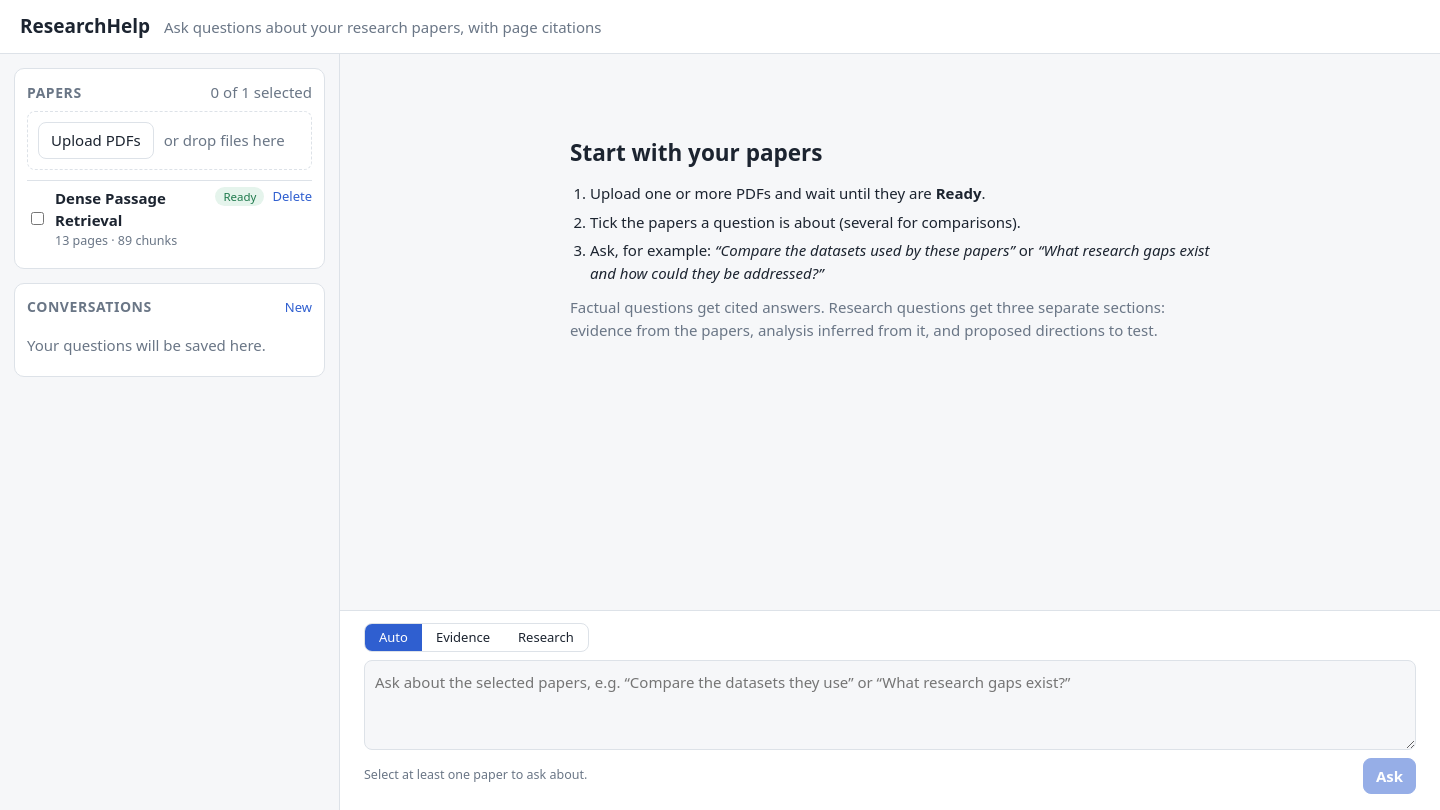
Test: App › shows the server's error and keeps the question for a retry
Expected: the text "Dense Passage Retrieval" is shown, [55, 188, 166, 230]
Click the checkbox named "Select Dense": (38, 218) [31, 190, 44, 247]
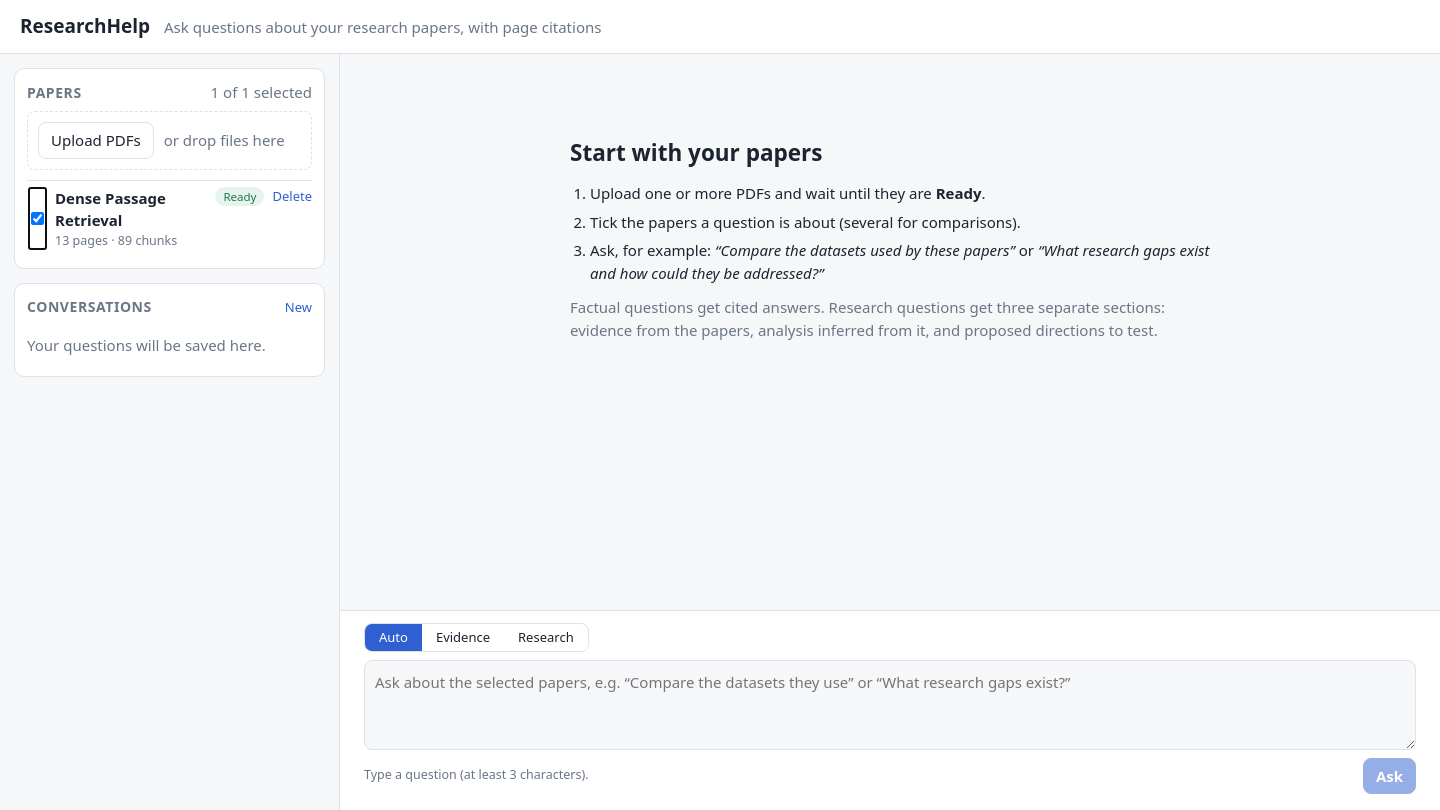
In the text box named "Your question": (890, 705) [364, 660, 1416, 750], type "Which datasets?"
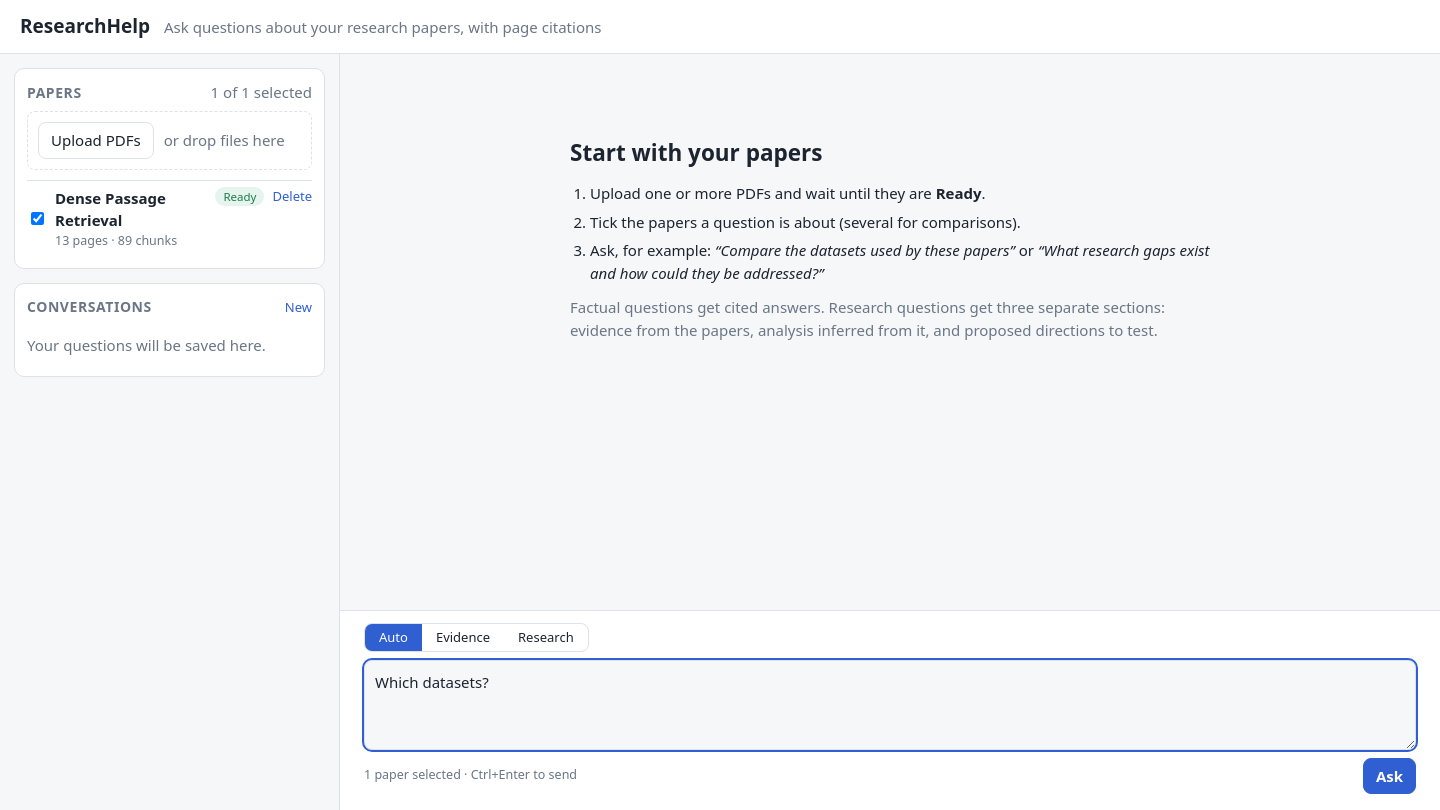
Click the button "Ask": (1389, 776) [1363, 758, 1416, 794]
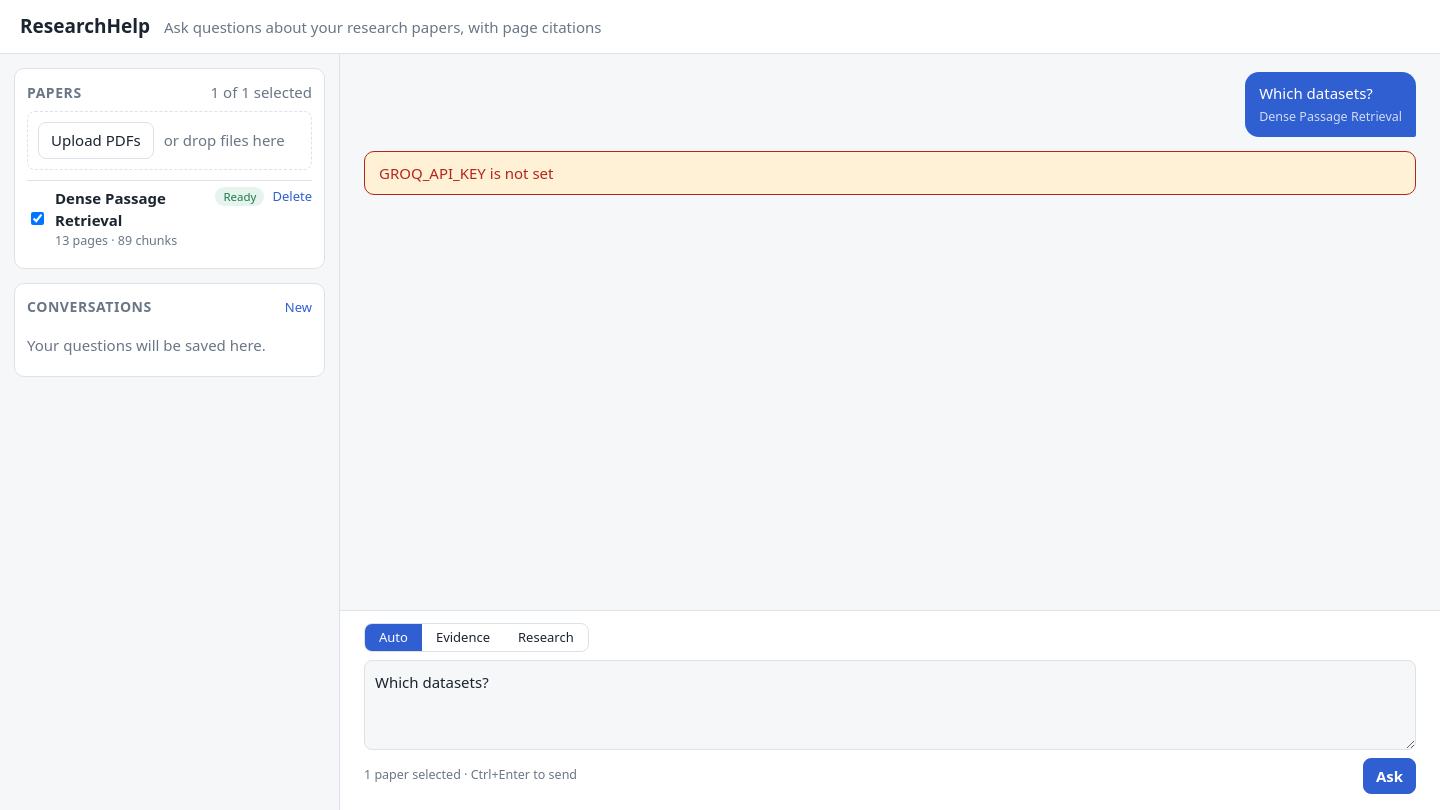
Result: the button "Ask" is enabled at [1363, 758, 1416, 794]
Result: the text "GROQ_API_KEY is not set" is shown at [364, 151, 1416, 195]
